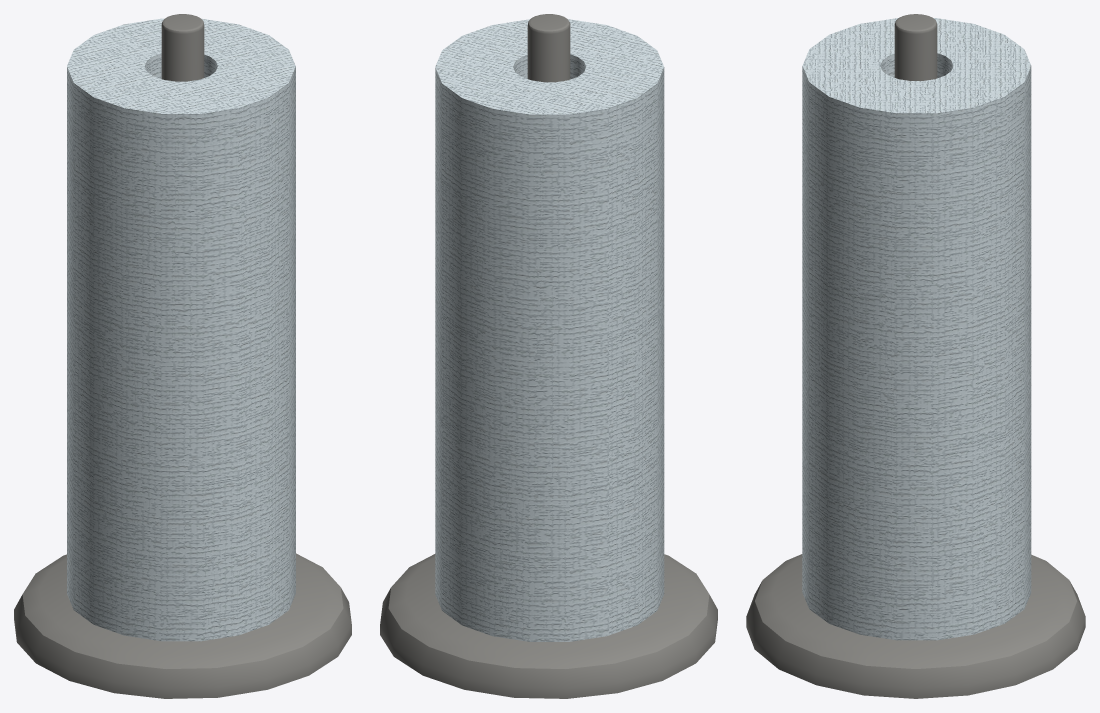
File: KitchenRollAndHolder.FBX
3 views of the same model, side by side, from view 1: azimuth 30°, elevation 25°; view 2: azimuth 150°, elevation 25°; view 3: azimuth 270°, elevation 25° (orthographic).
Visible parts, largest first — view 1: Tube001, Cylinder001; view 2: Tube001, Cylinder001; view 3: Tube001, Cylinder001.
Boxes of the visible parts, x1=… form: Tube001: x1=67, y1=18, x2=295, y2=641; Cylinder001: x1=14, y1=14, x2=351, y2=698; Tube001: x1=435, y1=19, x2=664, y2=641; Cylinder001: x1=380, y1=14, x2=717, y2=698; Tube001: x1=802, y1=18, x2=1031, y2=640; Cylinder001: x1=746, y1=14, x2=1085, y2=698.
Bounding box in the file's own units: 39.5 × 77.71 × 39.5.
Materials: 2 (2 with a texture image).
